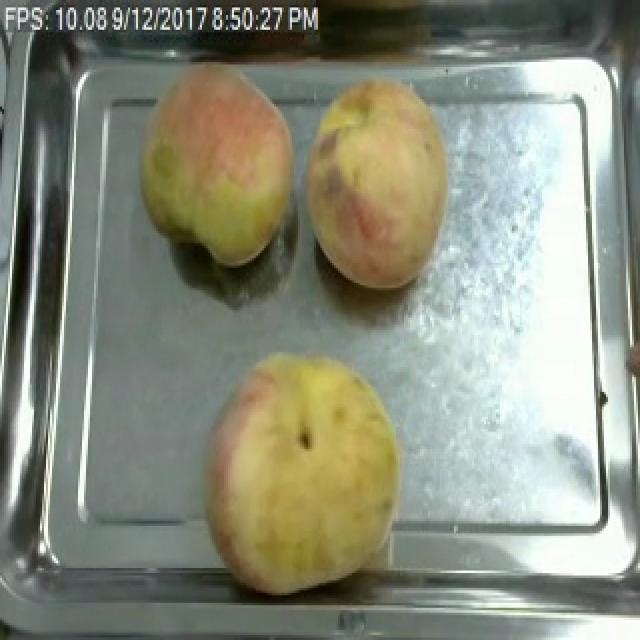Fruit: (196, 340, 416, 600), (128, 54, 308, 273), (294, 62, 460, 298)
